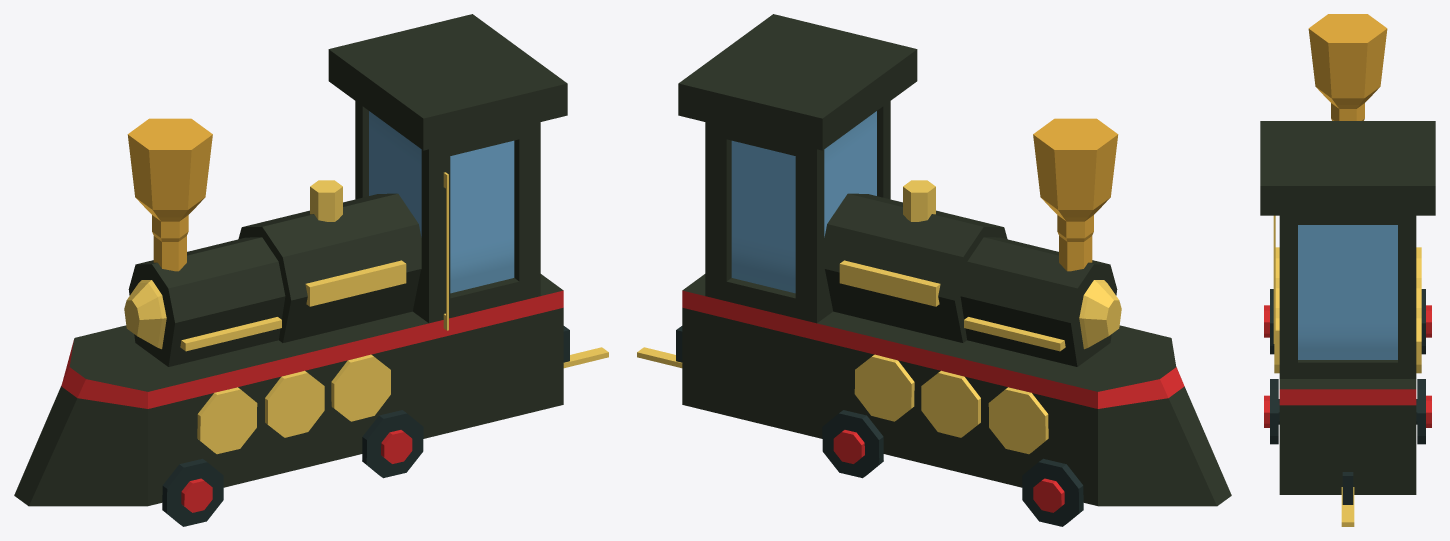
File: RoadTrain_A.fbx
3 renders of one model, left to right at view 1: azimuth 30°, elevation 25°; view 2: azimuth 150°, elevation 25°; view 3: azimuth 270°, elevation 25°, orthographic. The views are drawn at different scales.
Parts seen in each view (by area): view 1: RoadTrain_A, RoadTrain_A_Wheel.002, RoadTrain_A_Wheel.001; view 2: RoadTrain_A, RoadTrain_A_Wheel.002, RoadTrain_A_Wheel.001; view 3: RoadTrain_A, RoadTrain_A_Wheel.002, RoadTrain_A_Wheel.001.
Part boxes in pixels (box(x1,y1,x2,y2)): RoadTrain_A: box(14, 14, 608, 506); RoadTrain_A_Wheel.002: box(362, 410, 423, 478); RoadTrain_A_Wheel.001: box(162, 458, 223, 526); RoadTrain_A: box(637, 14, 1231, 506); RoadTrain_A_Wheel.002: box(822, 410, 883, 478); RoadTrain_A_Wheel.001: box(1022, 458, 1083, 526); RoadTrain_A: box(1260, 14, 1435, 526); RoadTrain_A_Wheel.002: box(1264, 379, 1431, 444); RoadTrain_A_Wheel.001: box(1264, 289, 1431, 354).
Size of the model in its own units: 277 by 161 by 77.92.
